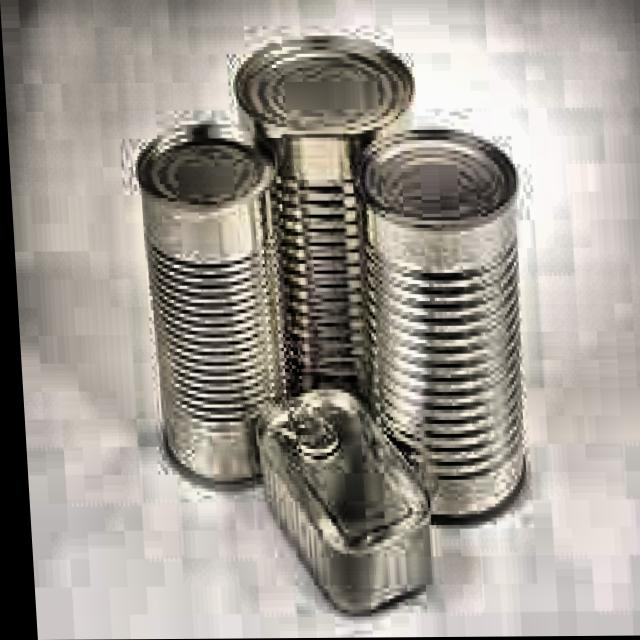can: (226, 28, 436, 428), (347, 124, 532, 524), (123, 116, 302, 500), (246, 378, 436, 618)
